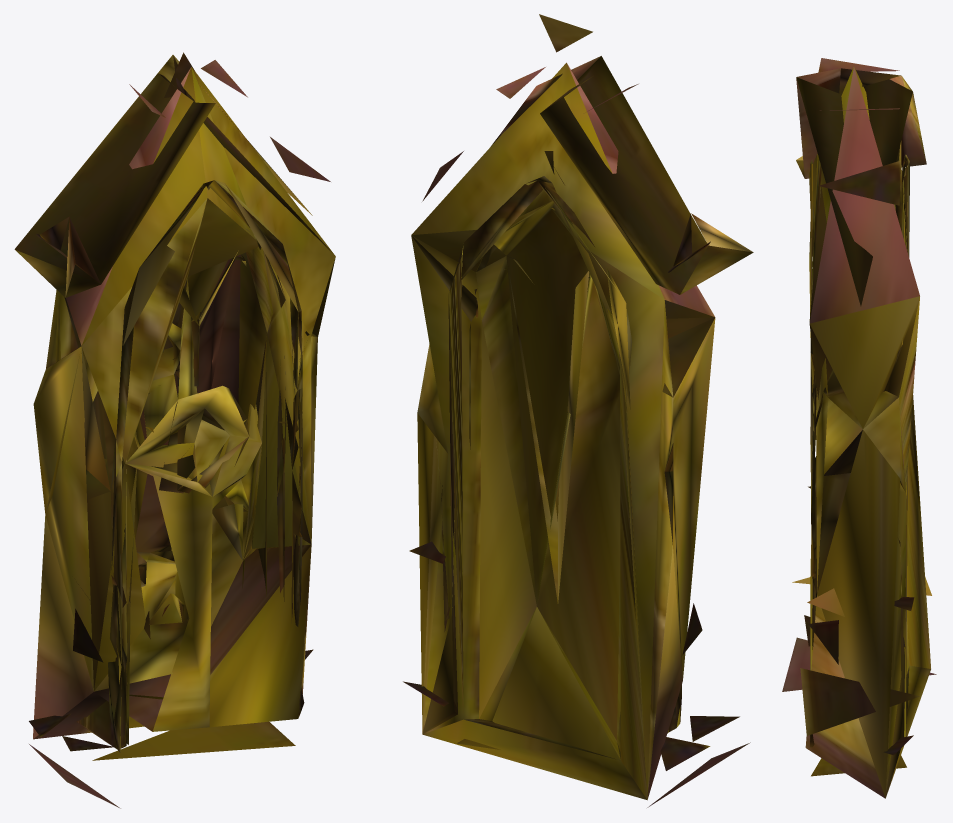
The model's file is lg-clockwork-cathedral-arch.glb.
The picture shows the model from 3 angles, left to right: view 1: azimuth 30°, elevation 25°; view 2: azimuth 150°, elevation 25°; view 3: azimuth 270°, elevation 25°; orthographic projection. The views are drawn at different scales.
Visible parts, largest first — view 1: geometry_0; view 2: geometry_0; view 3: geometry_0.
Part boxes in pixels (x1=…): geometry_0: x1=14, y1=52, x2=335, y2=808; geometry_0: x1=403, y1=14, x2=753, y2=807; geometry_0: x1=782, y1=58, x2=936, y2=798.
Size of the model in its own units: 0.4354 by 1 by 0.1972.
Materials: 1 (1 with a texture image).
